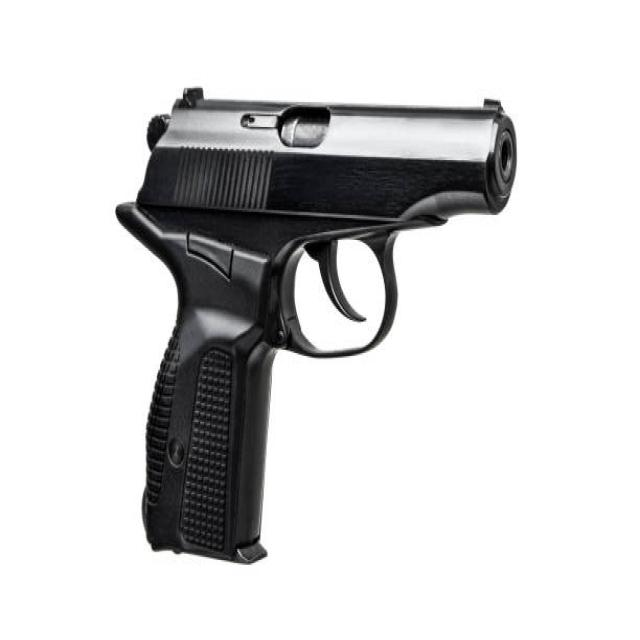pistol: (116, 80, 527, 571)
